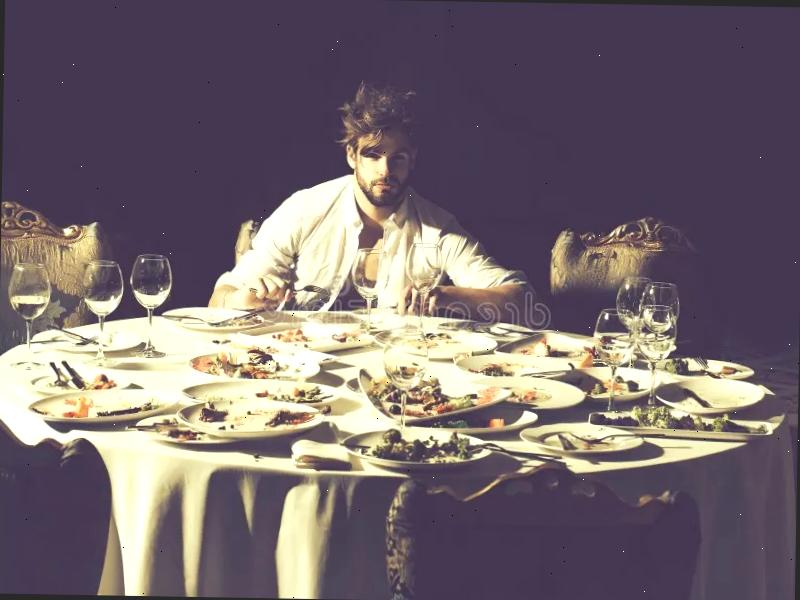Messy Table: (0, 268, 800, 600)
